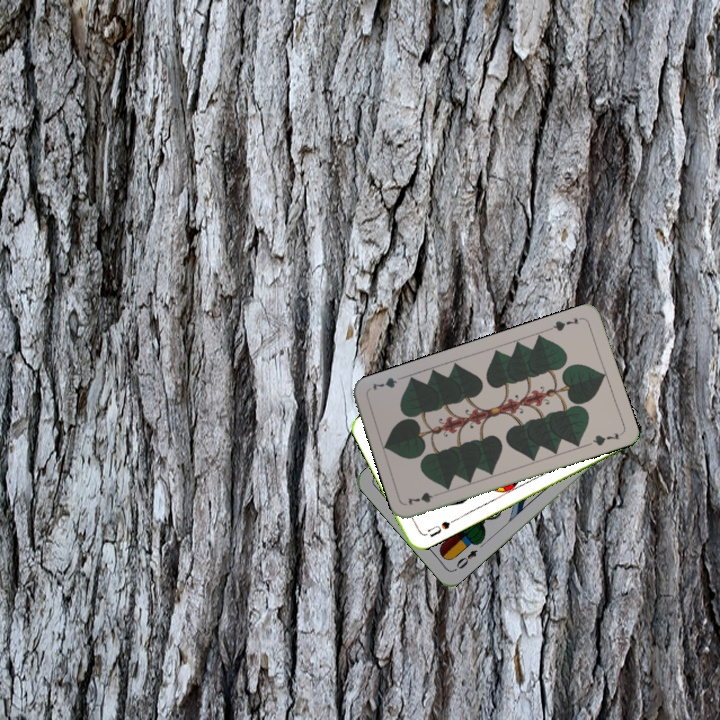EO: (450, 545, 480, 573)
G7: (403, 488, 444, 508), (545, 313, 581, 334)
SU: (420, 515, 458, 540)
